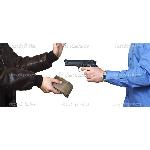Pistol: (63, 58, 101, 84)
